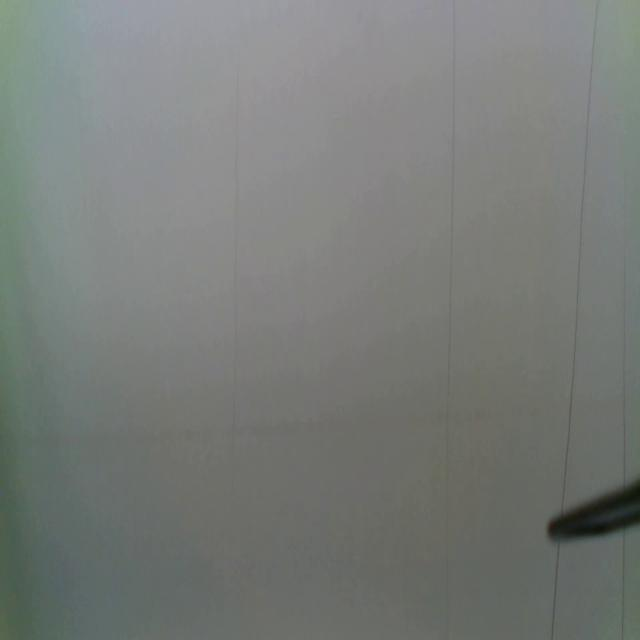color bleeding: (0, 383, 640, 458)
crease: (562, 0, 600, 503), (444, 3, 458, 640), (228, 37, 243, 482), (620, 204, 628, 486), (618, 527, 630, 638), (551, 543, 561, 638)
